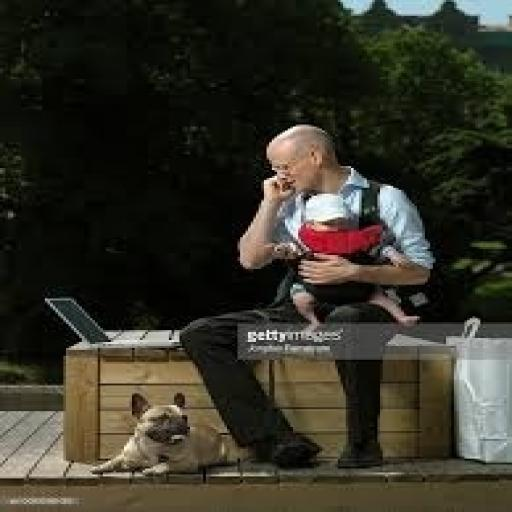using_laptop: (42, 292, 182, 350)
